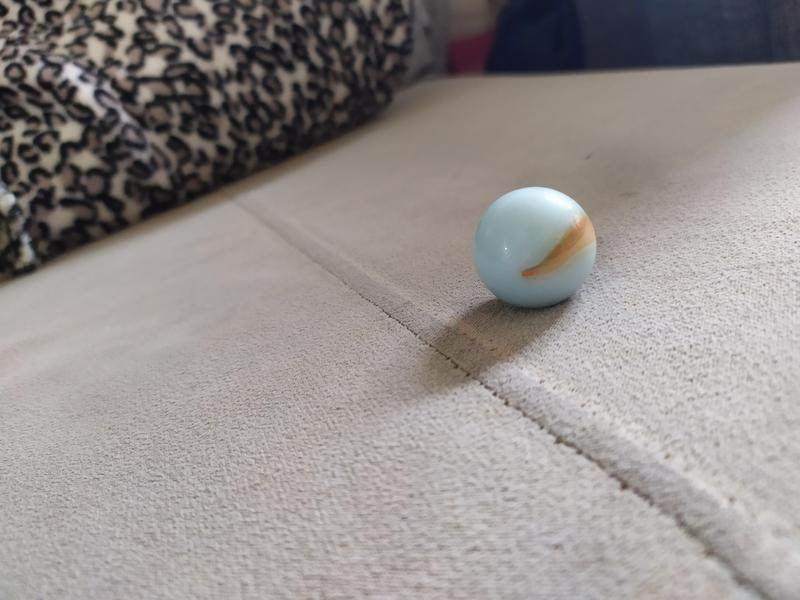Warning: (470, 183, 600, 312)
